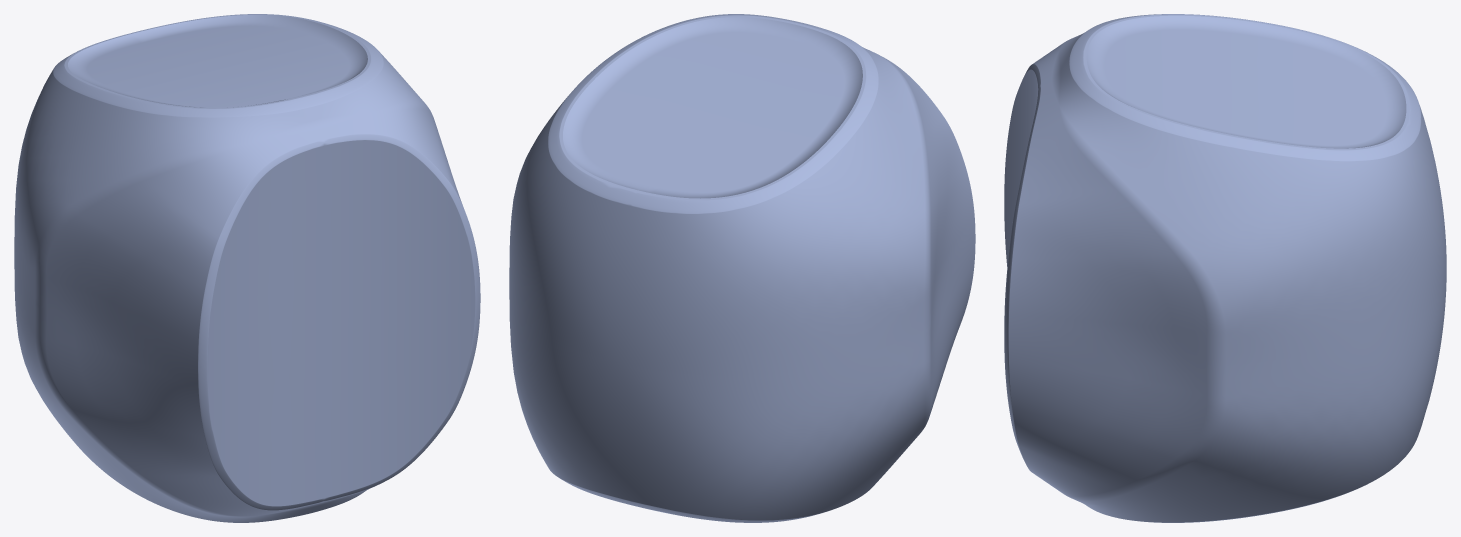
Rendered from 小原子髋部.glb.
3 renders of one model, left to right at view 1: azimuth 30°, elevation 25°; view 2: azimuth 150°, elevation 25°; view 3: azimuth 270°, elevation 25°, orthographic.
Bounding box in the file's own units: 0.1423 × 0.1436 × 0.1365.
